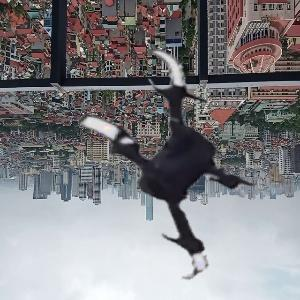drone: (39, 44, 276, 281)
